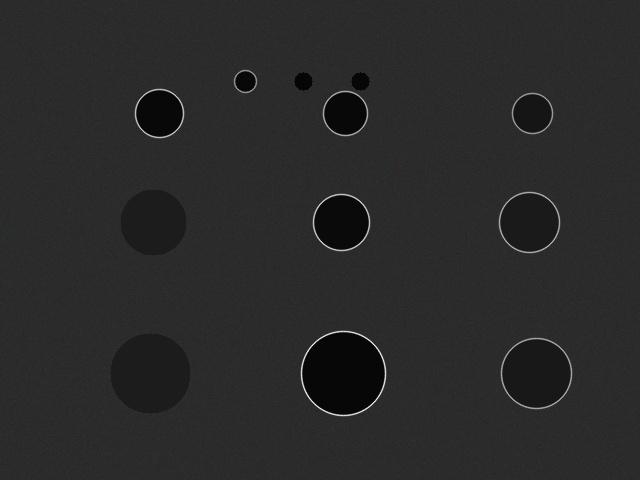hole: (301, 331, 385, 415), (110, 333, 190, 413), (501, 338, 571, 408), (120, 189, 186, 255), (499, 192, 559, 252), (313, 194, 369, 250), (135, 89, 183, 137), (323, 91, 367, 135), (512, 93, 552, 133), (234, 70, 256, 92), (294, 72, 312, 90), (351, 72, 369, 90)
